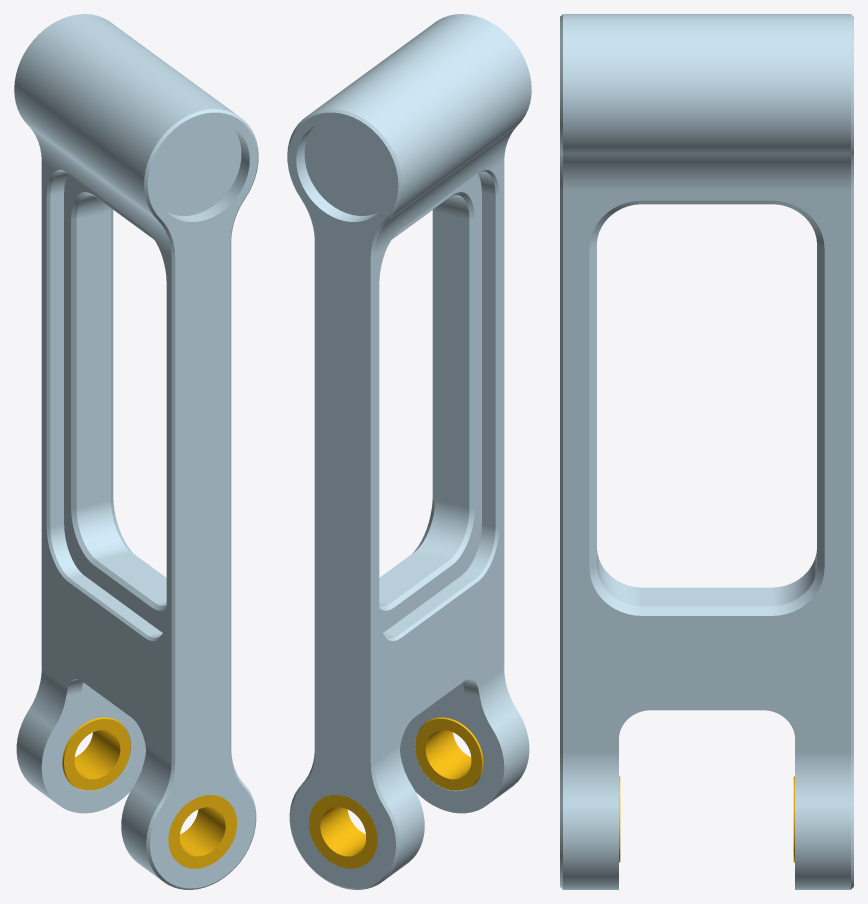
File: rg2_inner_knuckle.dae
The picture shows the model from 3 angles, left to right: view 1: azimuth 30°, elevation 25°; view 2: azimuth 150°, elevation 25°; view 3: azimuth 270°, elevation 25°; orthographic projection. The views are drawn at different scales.
Visible parts, largest first — view 1: RightInnerKnuckle, Bush.003, Bush.001; view 2: RightInnerKnuckle, Bush.001, Bush.003; view 3: RightInnerKnuckle.
Part boxes in pixels (left/top/right/bottom): RightInnerKnuckle: left=14, top=14, right=258, bottom=889; Bush.003: left=168, top=795, right=236, bottom=868; Bush.001: left=62, top=717, right=130, bottom=790; RightInnerKnuckle: left=287, top=14, right=531, bottom=889; Bush.001: left=309, top=795, right=377, bottom=868; Bush.003: left=415, top=717, right=483, bottom=790; RightInnerKnuckle: left=560, top=14, right=853, bottom=889.
Bounding box in the file's own units: 0.01 × 0.02 × 0.0648.
